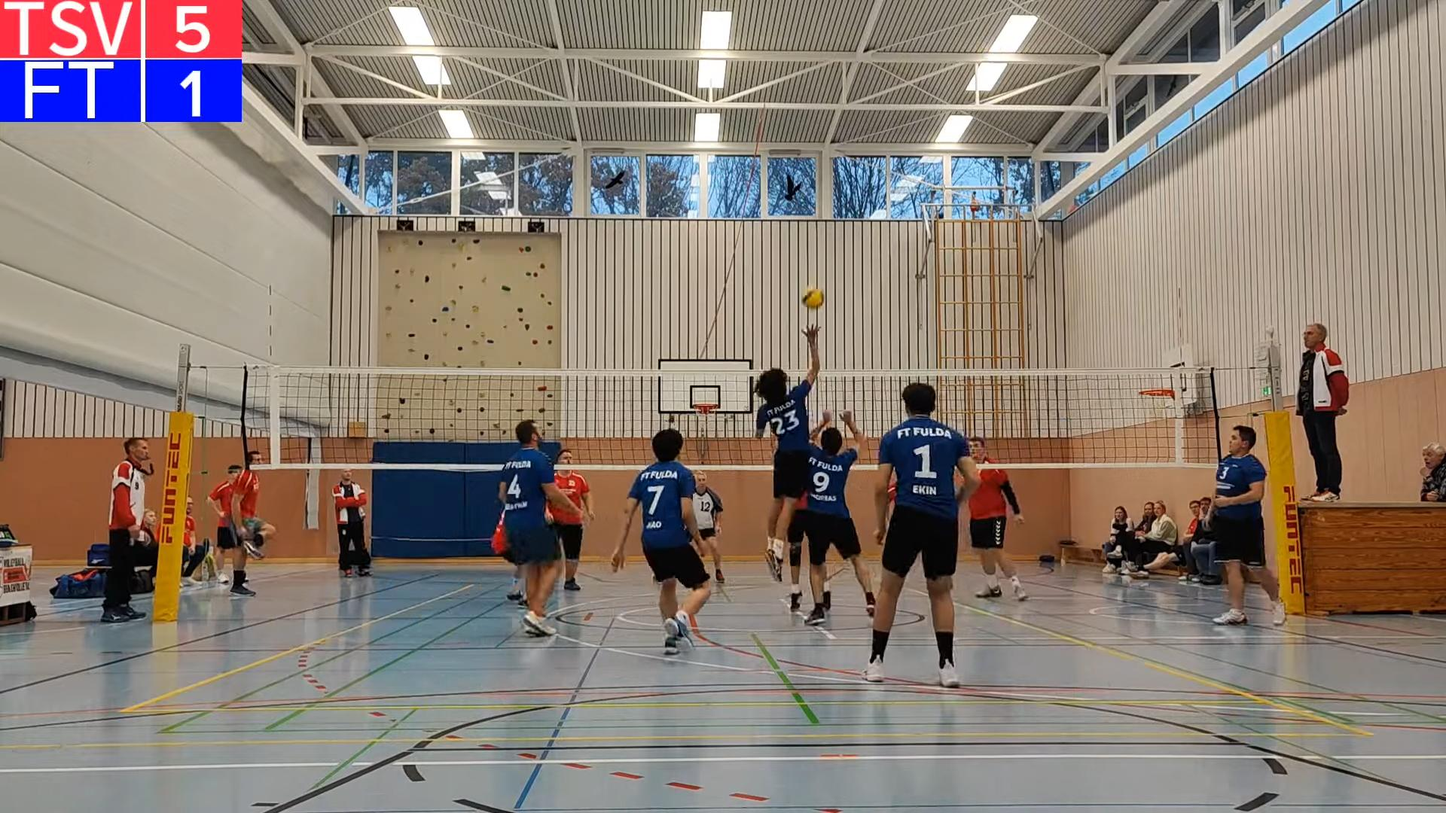Attack: (750, 324, 824, 581)
Player: (863, 382, 980, 687), (612, 429, 710, 653), (755, 327, 820, 580), (499, 420, 571, 636), (803, 411, 875, 625), (1212, 425, 1286, 625), (969, 468, 1027, 600), (552, 449, 594, 590), (692, 472, 725, 585), (492, 515, 526, 606), (786, 494, 807, 612)
ball: (800, 289, 826, 310)
